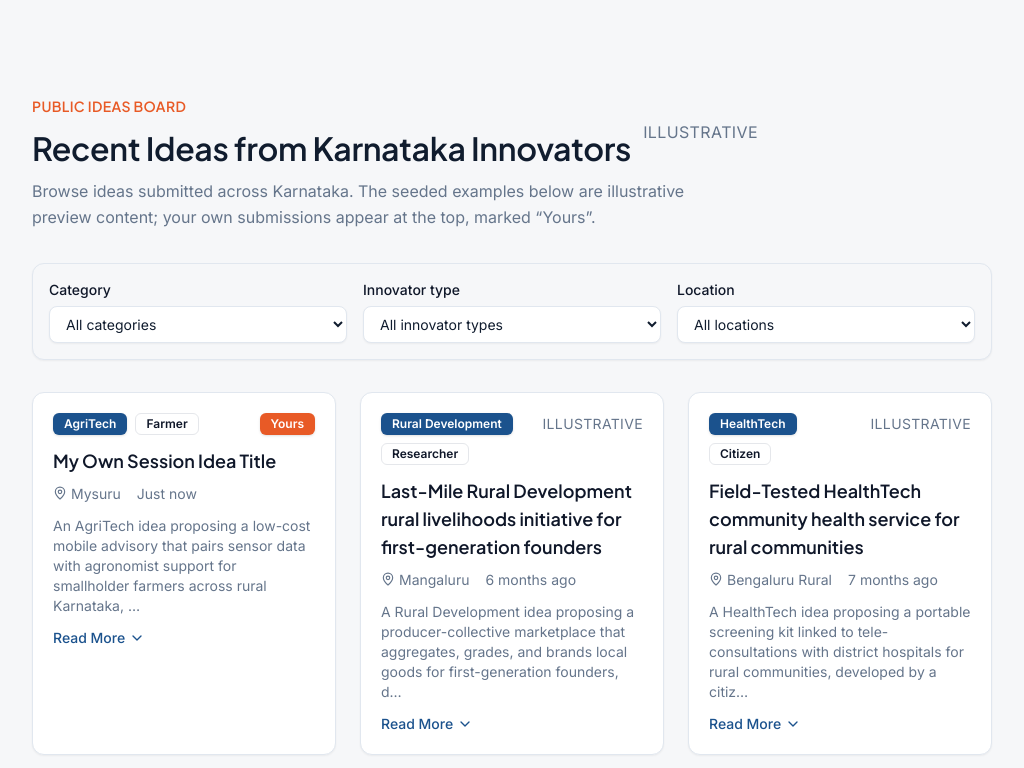
Test case: PublicIdeasBoard › shows the no-results message for a zero-match filter combination (Req 29.7)
Select "AgriTech" in the dropdown labelled "Category". click: (198, 324)
box: x1=49 y1=306 x2=347 y2=343
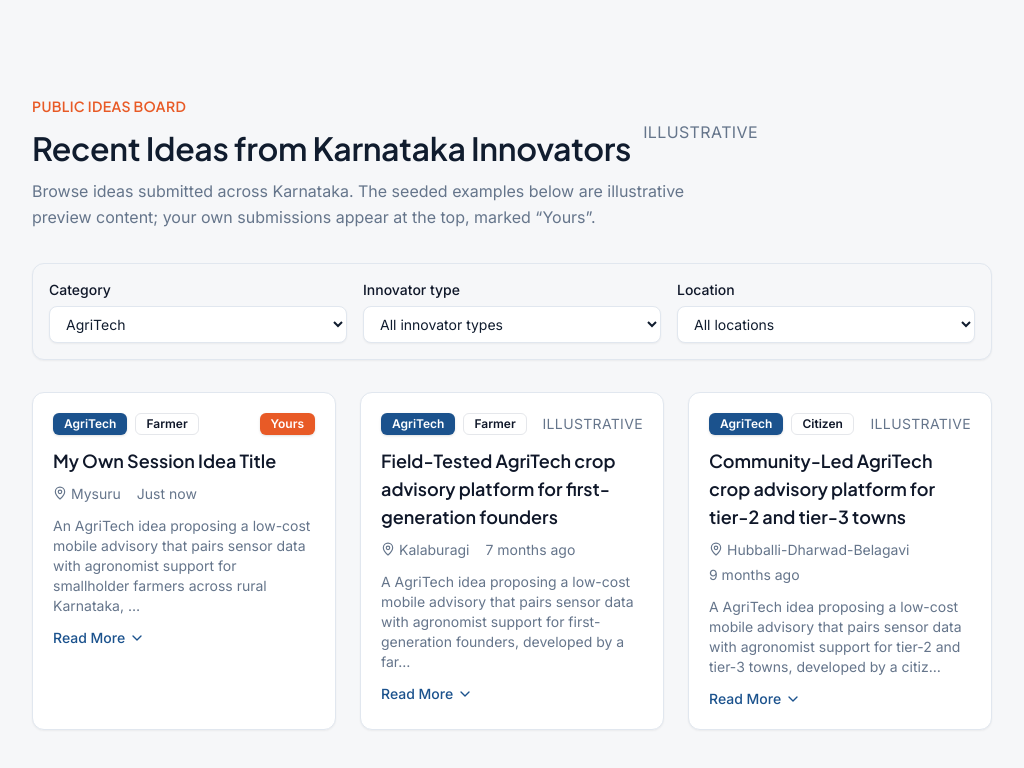
Select "Citizen" in the dropdown labelled "Innovator type". click: (512, 324)
box: x1=363 y1=306 x2=661 y2=343
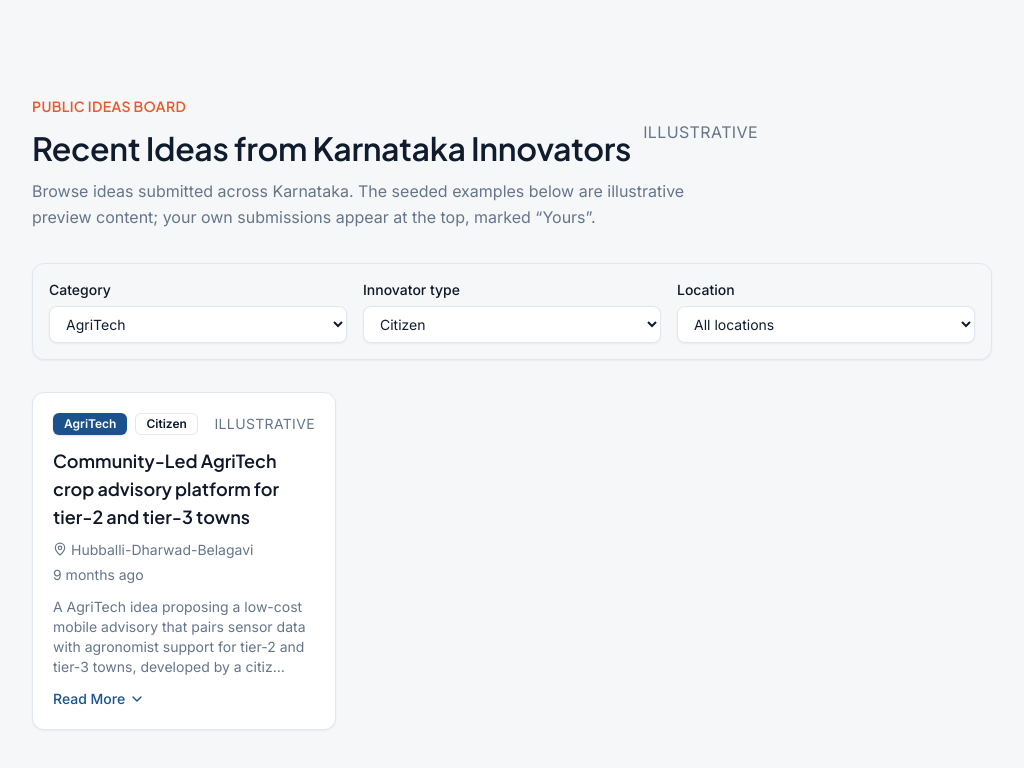
Select "Bengaluru Urban" in the dropdown labelled "Location". click: (826, 324)
box: x1=677 y1=306 x2=975 y2=343
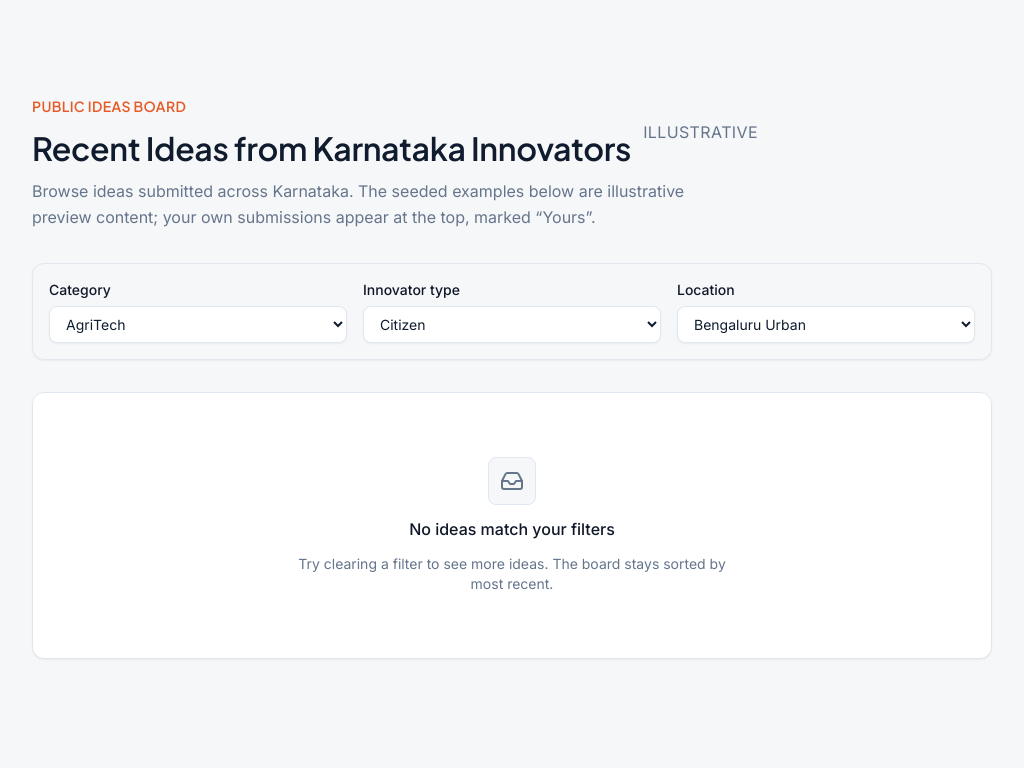
Result: the list is gone
Result: the text "No ideas match your filters" is shown at x1=409 y1=517 x2=615 y2=542
